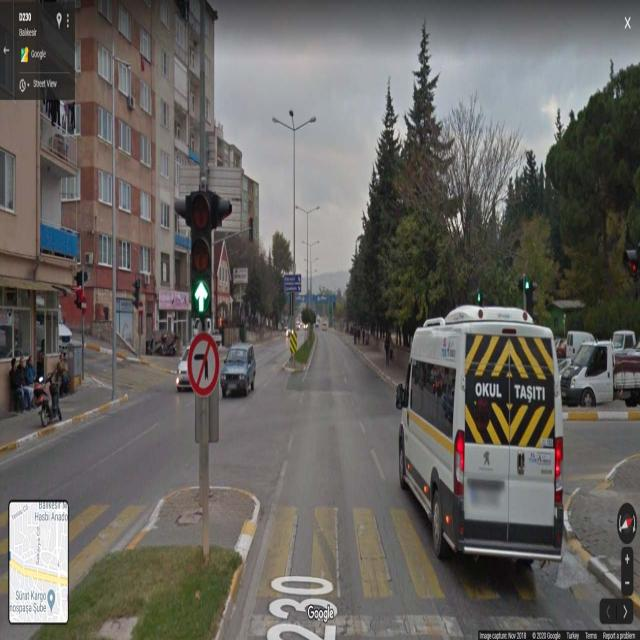soladonulmez: (190, 335, 218, 390)
